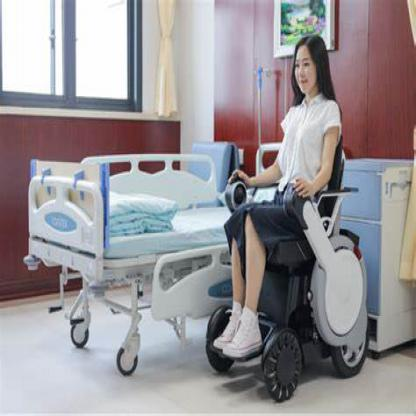wheelchair: (212, 37, 373, 392)
